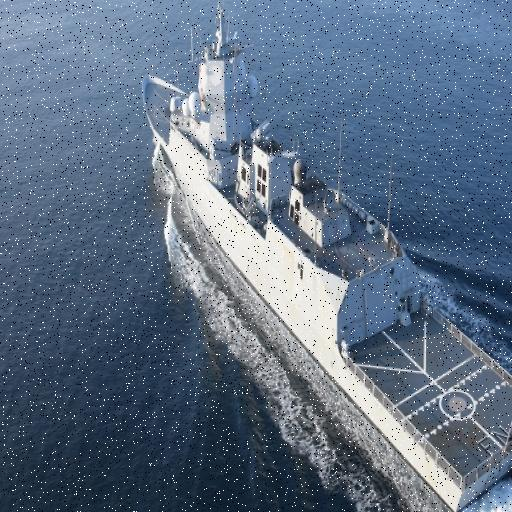Fragata: (139, 1, 512, 512)
